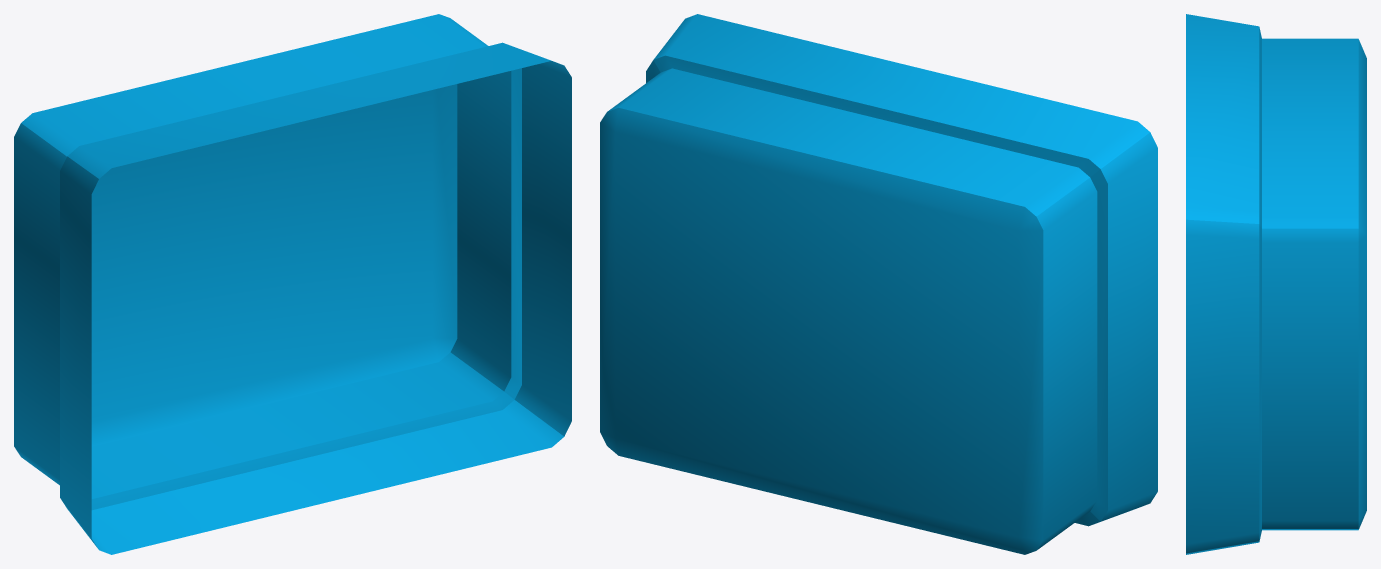
Rendered from ButtonDockingMode.FBX.
3 renders of one model, left to right at view 1: azimuth 30°, elevation 25°; view 2: azimuth 150°, elevation 25°; view 3: azimuth 270°, elevation 25°, orthographic. The views are drawn at different scales.
Parts seen in each view (by area): view 1: Button_DockingMode; view 2: Button_DockingMode; view 3: Button_DockingMode.
Boxes of the visible parts, x1,y1,x2,y2 form: Button_DockingMode: (14, 14, 571, 554); Button_DockingMode: (600, 14, 1157, 554); Button_DockingMode: (1186, 14, 1366, 554).
Size of the model in its own units: 0.065 by 0.05 by 0.0236.
1 material, 1 textured.
